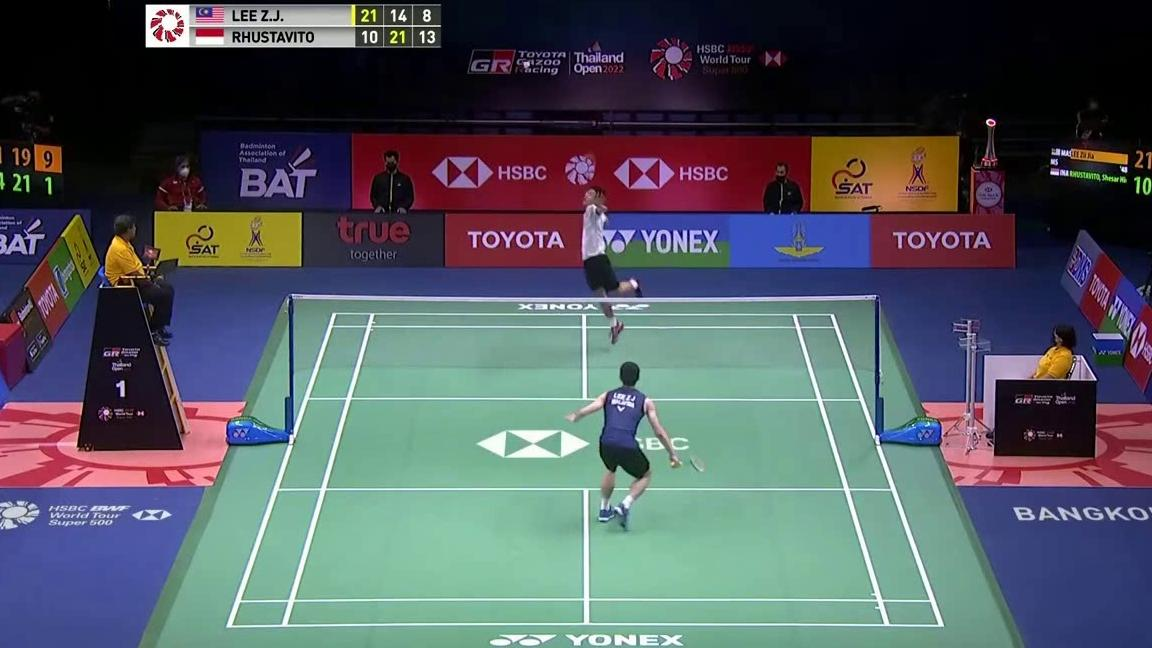racket: (671, 453, 706, 474), (582, 153, 596, 189)
shuttle: (521, 57, 534, 71)
